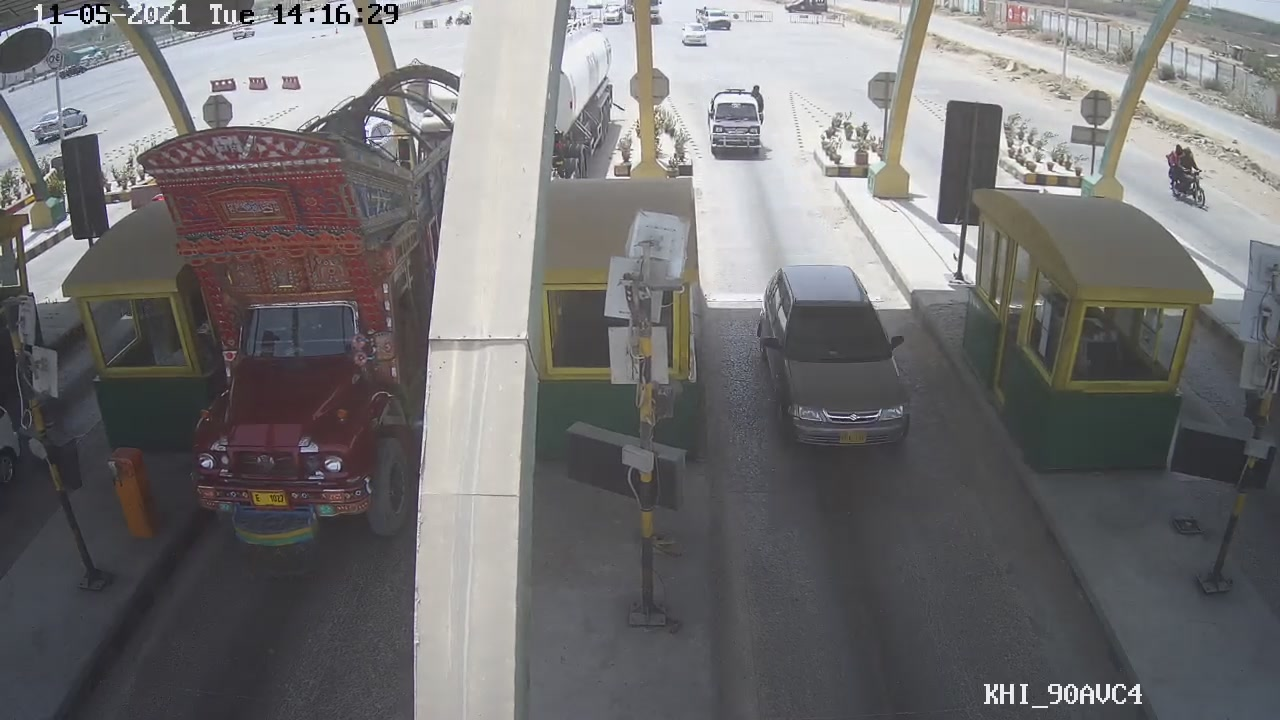F1: (758, 265, 915, 451)
